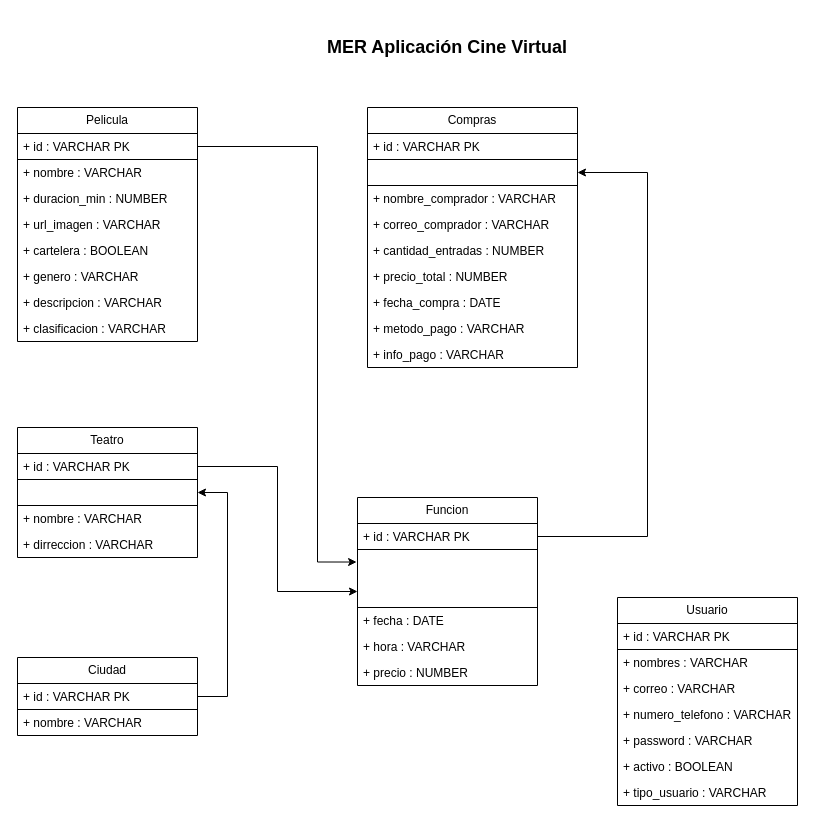
Image size: 815x825. Some labels were removed from this diagram. The centre of each missing label's shape, as x and y in pixels:
+ id_ciudad : VARCHAR FK: the point at 107,492
+ id_funcion : VARCHAR FK: the point at 472,172
+ id_pelicula : VARCHAR FK + id_teatro : VARCHAR FK: the point at 447,578
